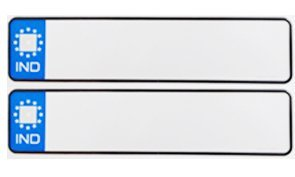inlp: (4, 11, 295, 87), (8, 88, 295, 157)
